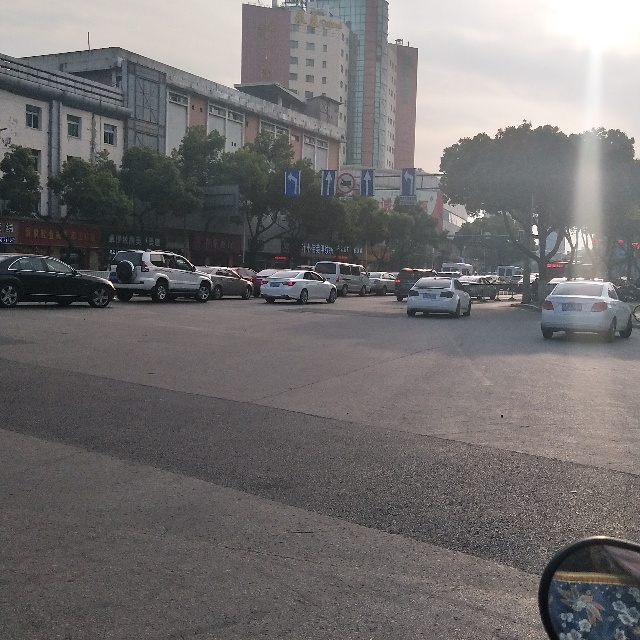left: (281, 168, 304, 200), (400, 165, 418, 199)
straight: (320, 164, 337, 201), (358, 166, 376, 194)
